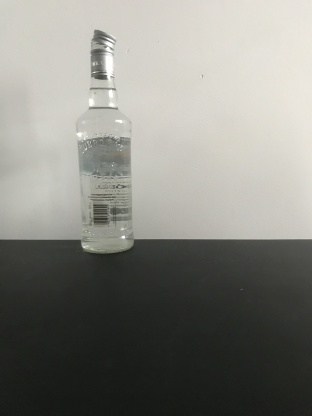nakretka: (88, 26, 117, 80)
